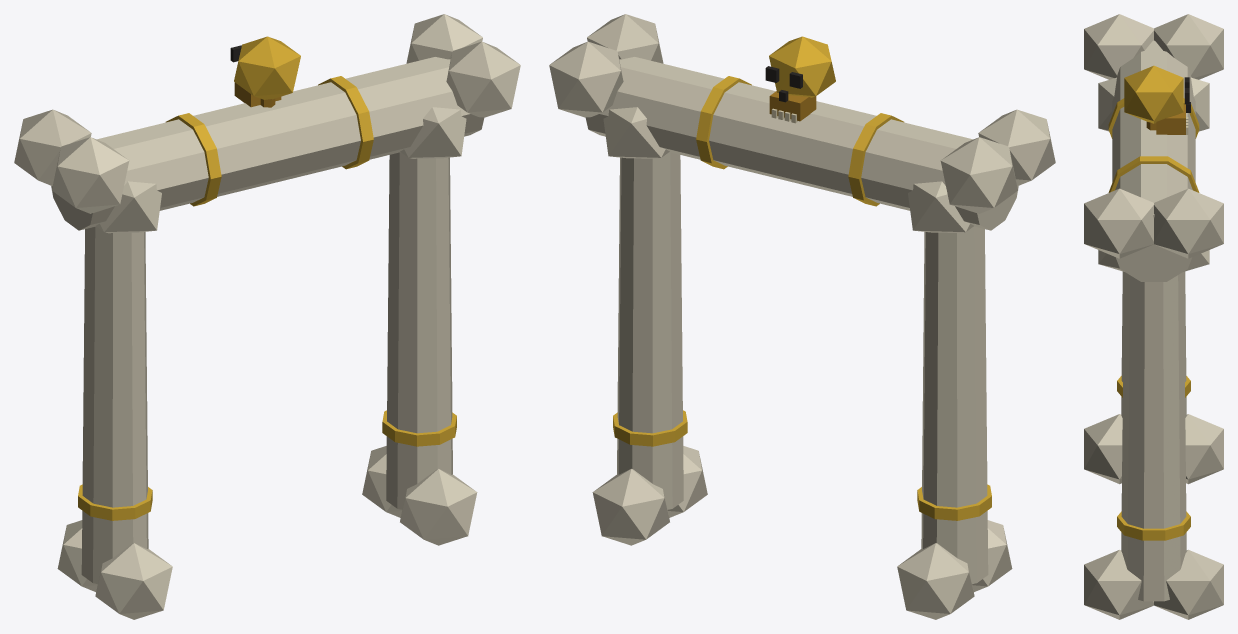
Rendered from Decor_DogeAltar_BoneArch.fbx.
The picture shows the model from 3 angles, left to right: view 1: azimuth 30°, elevation 25°; view 2: azimuth 150°, elevation 25°; view 3: azimuth 270°, elevation 25°; orthographic projection. The views are drawn at different scales.
Visible parts, largest first — view 1: BoneArch_Body; view 2: BoneArch_Body; view 3: BoneArch_Body.
Part boxes in pixels (x1,y1,x2,y2): BoneArch_Body: [14, 14, 520, 619]; BoneArch_Body: [549, 14, 1055, 619]; BoneArch_Body: [1084, 14, 1223, 619].
Size of the model in its own units: 21.4 by 23.8 by 6.2.
